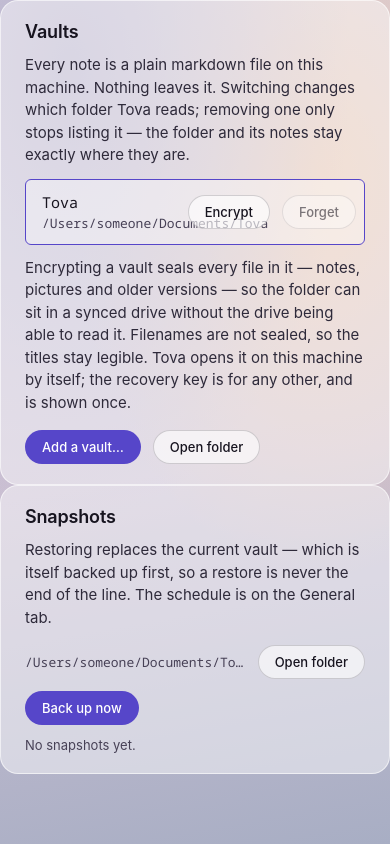
Test: encrypting a vault › shows the recovery key once, and says it cannot be shown again
Step 1. Click the button with aria-label "Encrypt Tova" → (229, 212), box [188, 194, 270, 228]
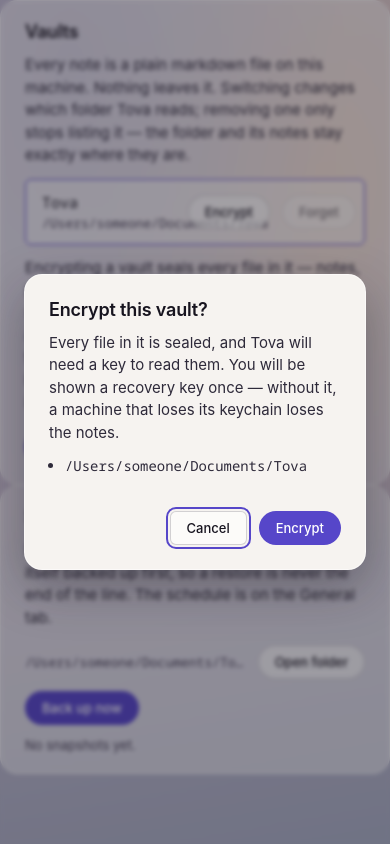
Step 2. Click the button "Encrypt" → (300, 528), box [259, 511, 341, 545]
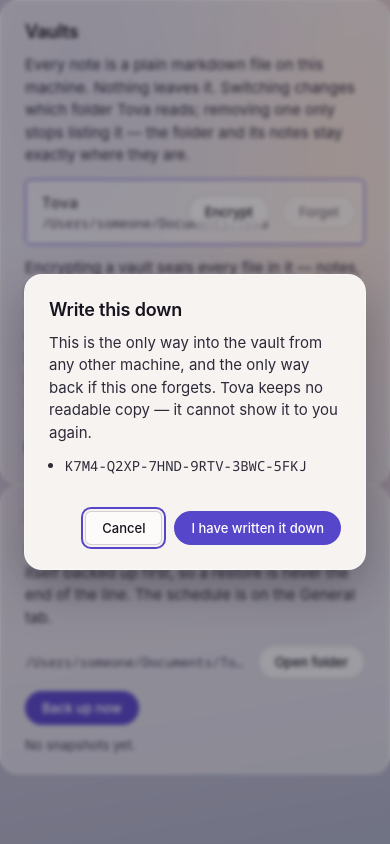
Result: the list item "K7M4-Q2XP-7HND-9RTV-3BWC-5FKJ" is shown at [65, 456, 341, 475]
Result: the text "cannot show it to you again" is shown at [49, 333, 338, 442]
